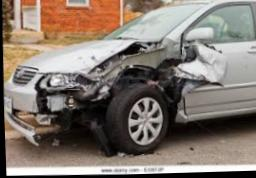Bonnet: (38, 40, 164, 81)
Bumper: (3, 85, 106, 142)
Fender: (98, 51, 187, 123)
Light: (33, 73, 101, 94)
